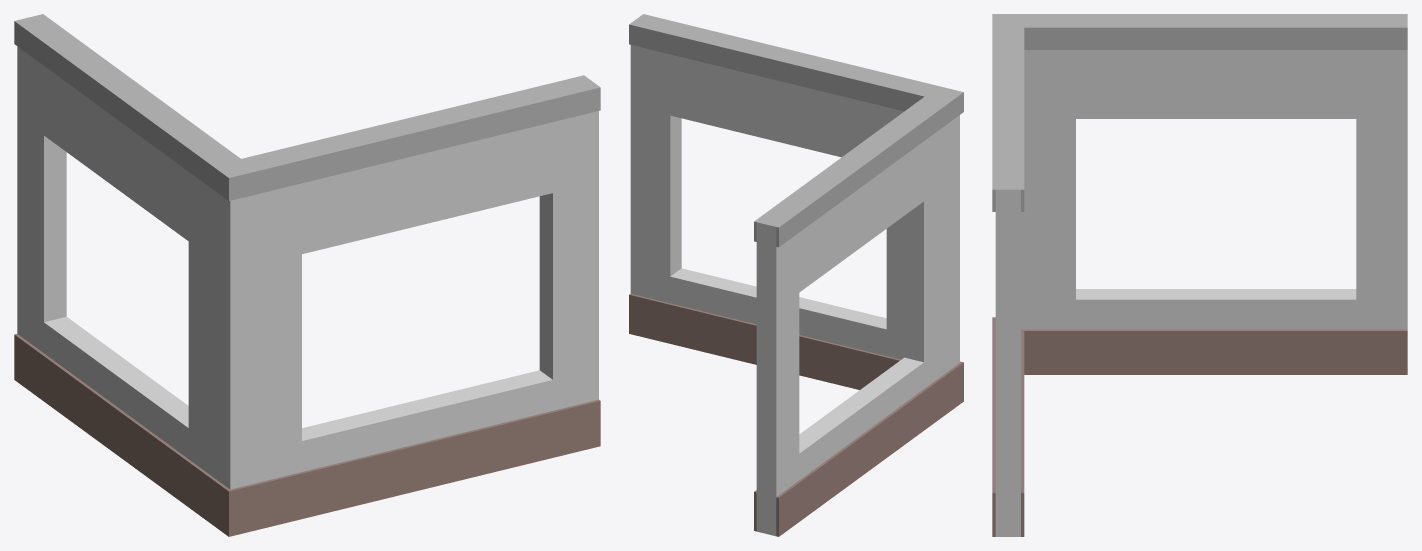
Rendered from Wall05-05.fbx.
3 renders of one model, left to right at view 1: azimuth 30°, elevation 25°; view 2: azimuth 150°, elevation 25°; view 3: azimuth 270°, elevation 25°, orthographic. The views are drawn at different scales.
Visible parts, largest first — view 1: Wall05-05; view 2: Wall05-05; view 3: Wall05-05.
Boxes of the visible parts, x1=… form: Wall05-05: x1=14, y1=14, x2=600, y2=536; Wall05-05: x1=629, y1=14, x2=963, y2=536; Wall05-05: x1=992, y1=14, x2=1407, y2=536.
Bounding box in the file's own units: 3.25 × 3.25 × 3.
